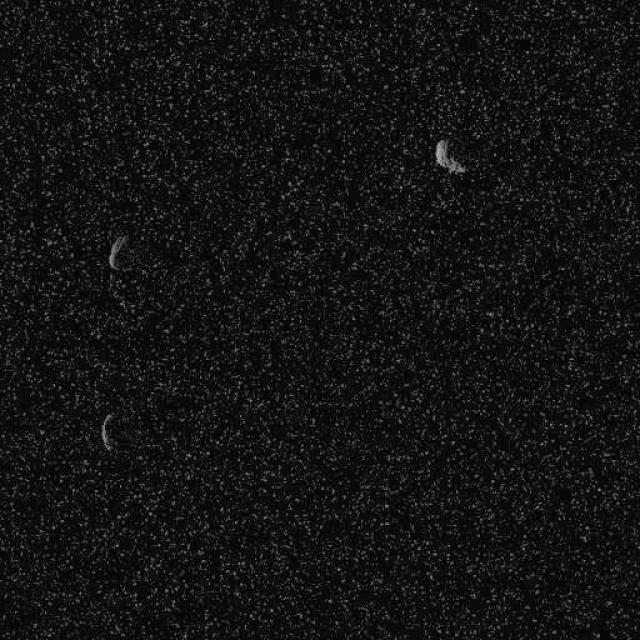D2: (434, 137, 466, 175), (106, 232, 129, 272), (100, 411, 116, 451)
